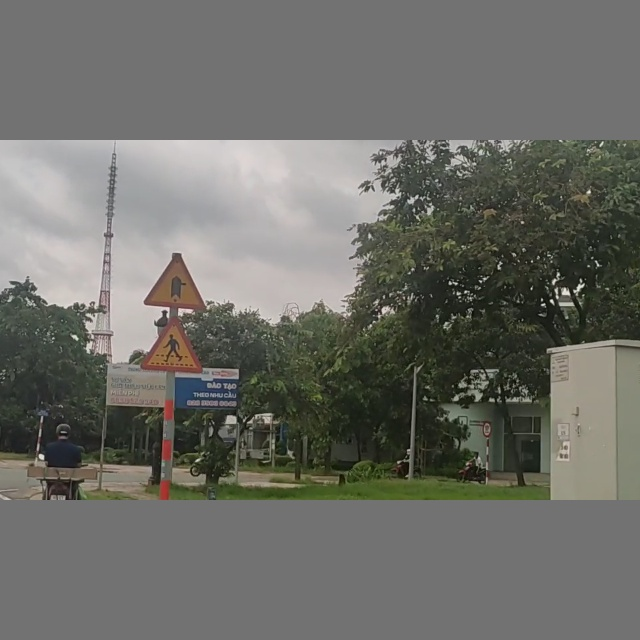W.207: (143, 253, 209, 309)
W.224: (141, 315, 206, 374)
